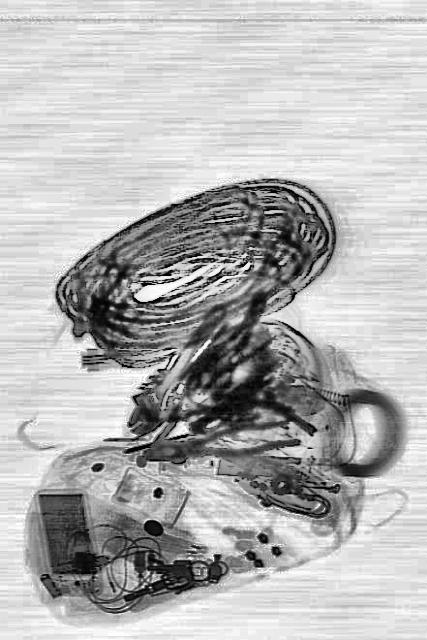Pliers: (140, 412, 300, 474)
Wrench: (117, 283, 237, 447)
